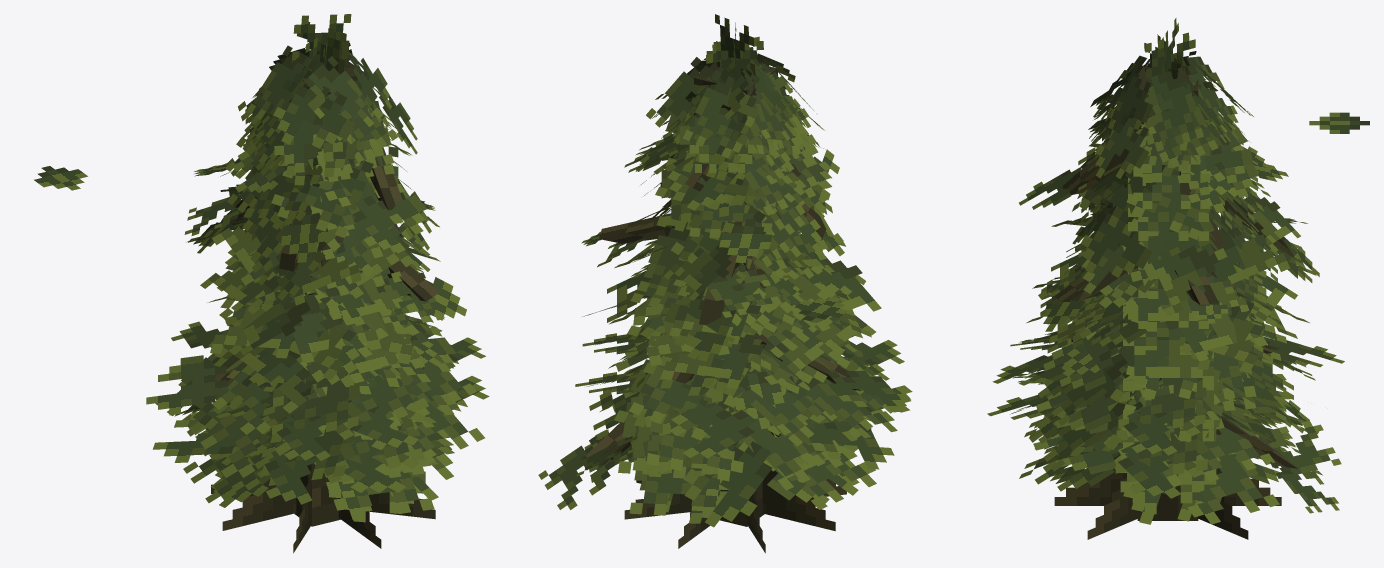
The model's file is Tree2.fbx.
3 renders of one model, left to right at view 1: azimuth 30°, elevation 25°; view 2: azimuth 150°, elevation 25°; view 3: azimuth 270°, elevation 25°, orthographic. The views are drawn at different scales.
Parts seen in each view (by area): view 1: plane_143, plane_141, plane_439, plane_297, plane_301, plane_378, plane_219, plane_216, plane_342, plane_300, plane_299, plane_287 (+56 smaller); view 2: plane_397, plane_51, plane_409, plane_60, plane_49, plane_385, plane_136, plane_395, plane_380, plane_399, plane_141, plane_140 (+66 smaller); view 3: plane_364, plane_425, plane_448, plane_192, plane_291, plane_204, plane_362, plane_215, plane_305, plane_211, plane_213, plane_450 (+67 smaller).
Part boxes in pixels (x1=…): plane_143: x1=212, y1=355, x2=310, y2=434; plane_141: x1=146, y1=355, x2=226, y2=415; plane_439: x1=273, y1=85, x2=355, y2=148; plane_297: x1=272, y1=353, x2=360, y2=441; plane_301: x1=271, y1=148, x2=373, y2=237; plane_378: x1=190, y1=383, x2=308, y2=477; plane_219: x1=353, y1=194, x2=426, y2=253; plane_216: x1=304, y1=56, x2=383, y2=143; plane_342: x1=264, y1=443, x2=356, y2=504; plane_300: x1=277, y1=293, x2=381, y2=363; plane_299: x1=276, y1=401, x2=362, y2=460; plane_287: x1=315, y1=367, x2=428, y2=435; plane_397: x1=683, y1=441, x2=772, y2=527; plane_51: x1=669, y1=399, x2=756, y2=458; plane_409: x1=683, y1=70, x2=759, y2=158; plane_60: x1=660, y1=334, x2=763, y2=388; plane_49: x1=629, y1=365, x2=743, y2=440; plane_385: x1=742, y1=409, x2=843, y2=490; plane_136: x1=723, y1=360, x2=837, y2=446; plane_395: x1=629, y1=469, x2=723, y2=517; plane_380: x1=795, y1=422, x2=894, y2=469; plane_399: x1=646, y1=410, x2=743, y2=481; plane_141: x1=817, y1=370, x2=910, y2=412; plane_140: x1=789, y1=355, x2=892, y2=438; plane_364: x1=1163, y1=454, x2=1279, y2=524; plane_425: x1=1142, y1=67, x2=1203, y2=151; plane_448: x1=1144, y1=245, x2=1215, y2=316; plane_192: x1=1210, y1=227, x2=1289, y2=294; plane_291: x1=1081, y1=213, x2=1152, y2=277; plane_204: x1=1123, y1=337, x2=1213, y2=384; plane_362: x1=1118, y1=439, x2=1209, y2=498; plane_215: x1=1118, y1=378, x2=1206, y2=435; plane_305: x1=1043, y1=331, x2=1123, y2=391; plane_211: x1=1164, y1=417, x2=1275, y2=481; plane_213: x1=1123, y1=401, x2=1207, y2=455; plane_450: x1=1266, y1=421, x2=1341, y2=478.
Bounding box in the file's own units: 325 × 396 × 299.
Materials: 1 (1 with a texture image).
